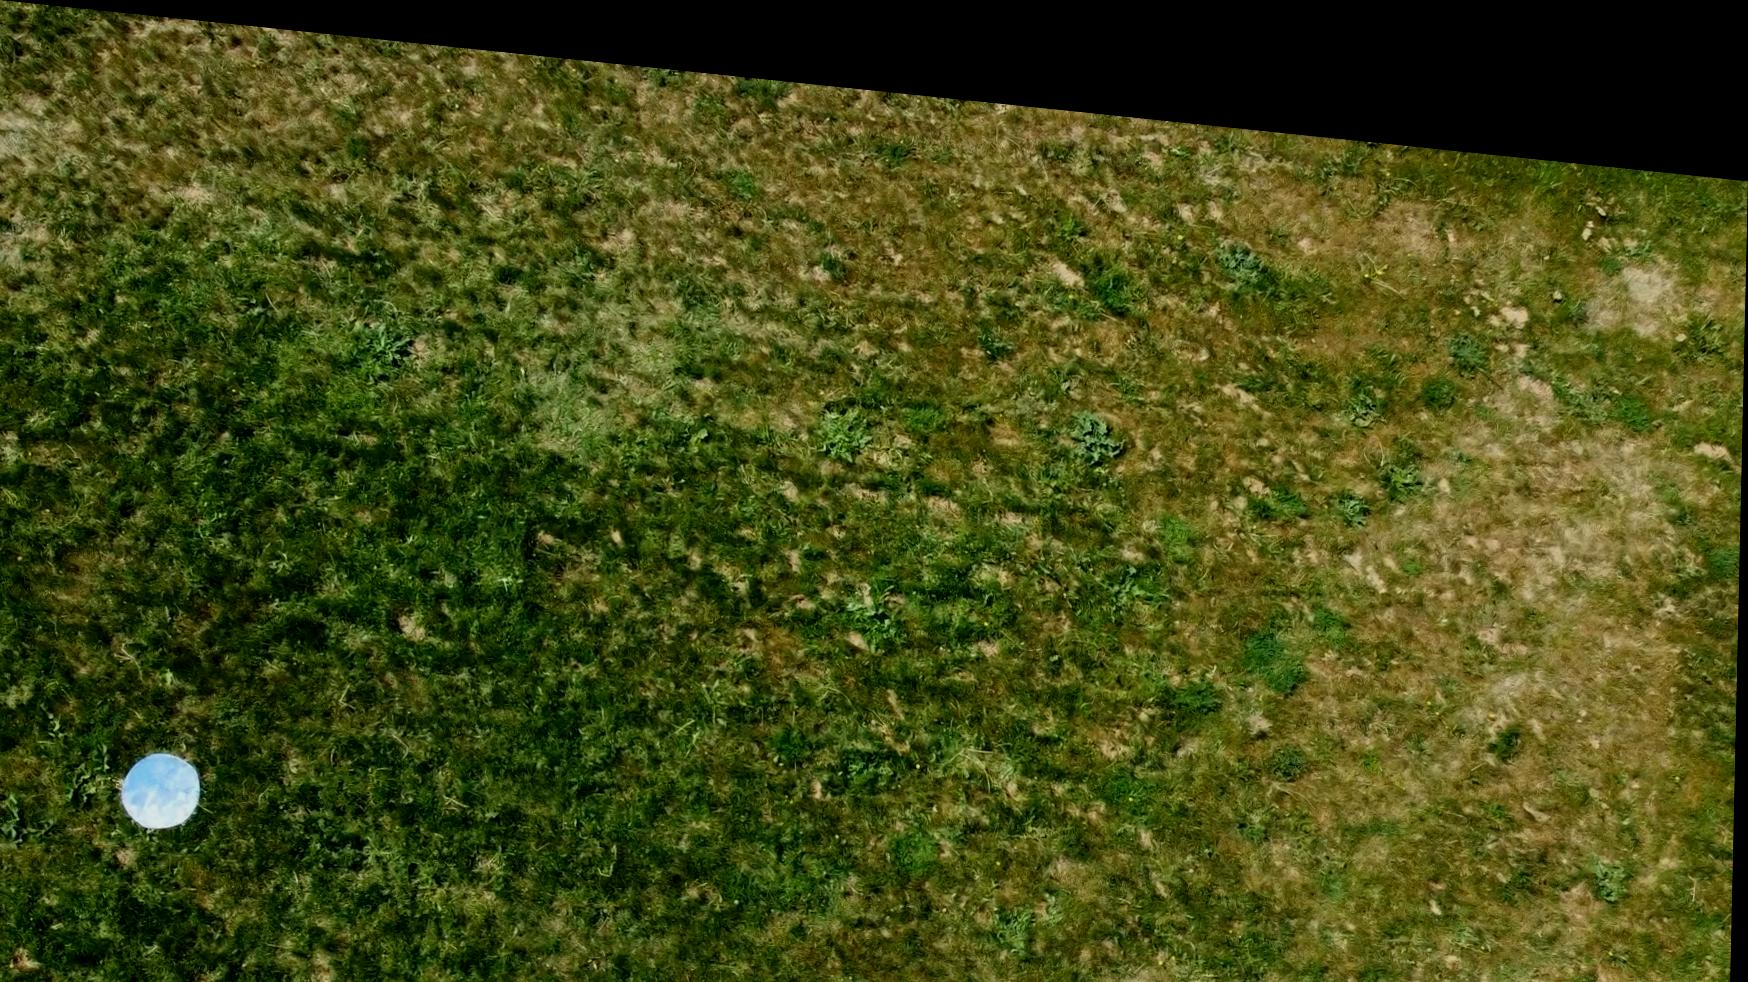Blue: (121, 744, 208, 833)
